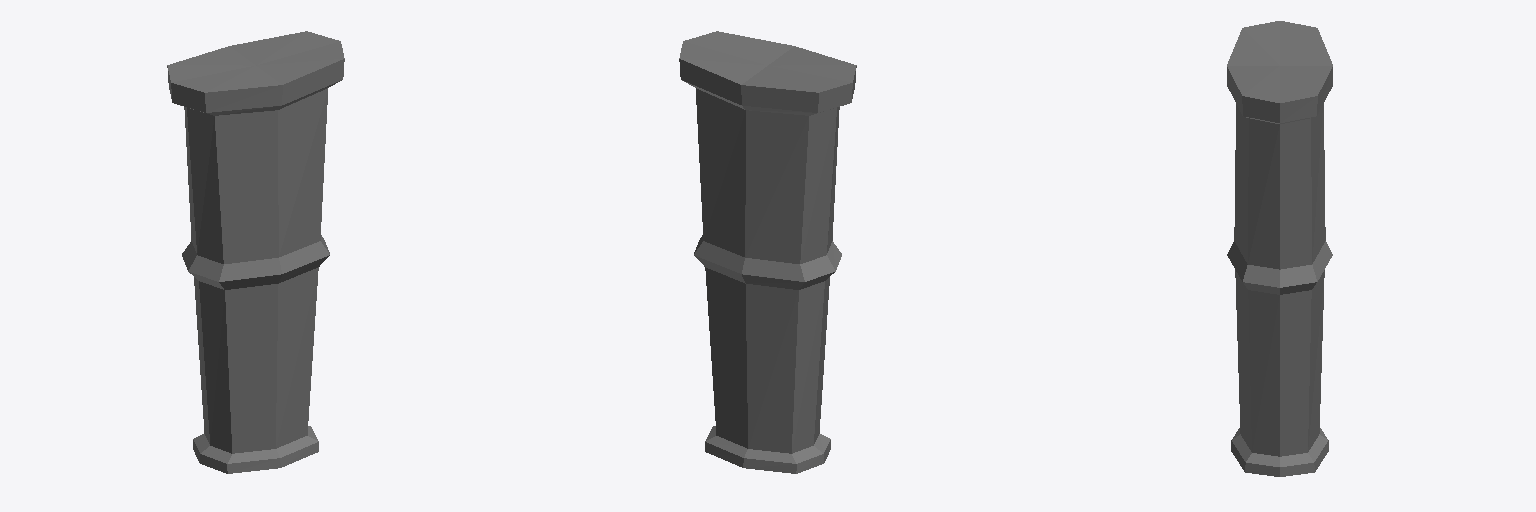
Rendered from type-10-grip.obj.
3 views of the same model, side by side, from view 1: azimuth 30°, elevation 25°; view 2: azimuth 150°, elevation 25°; view 3: azimuth 270°, elevation 25° (orthographic).
Bounding box in the file's own units: 1.89 × 4.12 × 1.02.